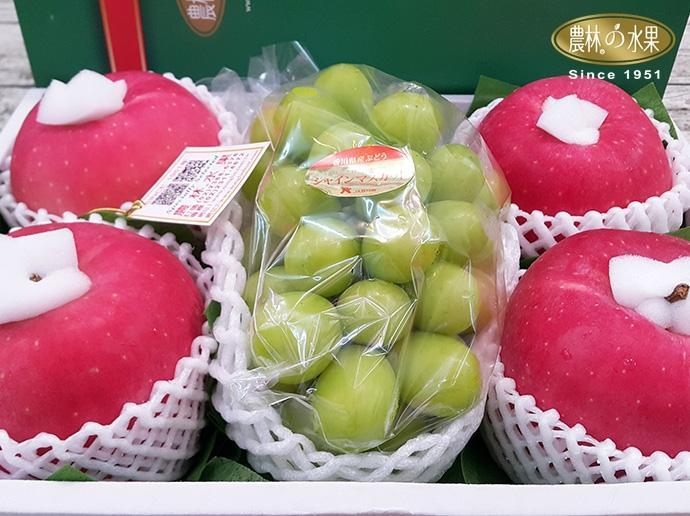apple: (2, 216, 208, 477), (483, 227, 689, 482), (11, 68, 221, 214), (478, 74, 674, 212)
